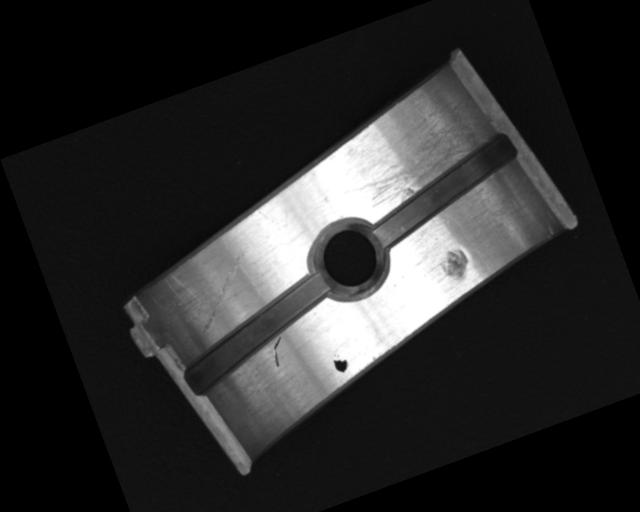blot: (330, 350, 351, 375)
bruise: (435, 244, 474, 285)
gap: (167, 271, 347, 399), (353, 131, 532, 252)
hole: (302, 210, 396, 307)
nick: (177, 248, 266, 336), (266, 335, 291, 369)
scratch: (319, 88, 509, 224)
